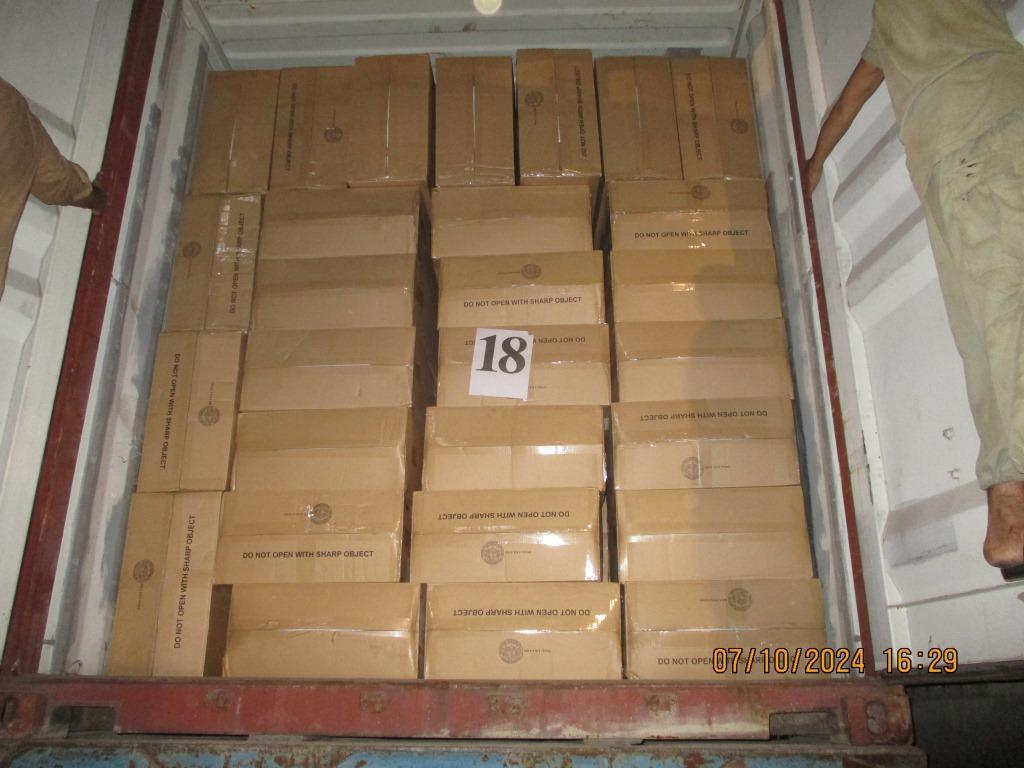carton: (107, 492, 224, 676), (623, 578, 825, 679), (425, 581, 621, 682), (224, 581, 424, 679), (614, 485, 813, 582), (214, 489, 405, 585), (408, 489, 601, 584), (610, 398, 800, 491), (137, 331, 246, 491), (240, 327, 433, 412), (233, 407, 421, 493), (422, 406, 605, 493), (437, 323, 612, 408), (614, 319, 793, 401), (253, 254, 435, 331), (164, 193, 263, 331), (608, 249, 782, 323), (258, 185, 430, 259), (437, 251, 604, 327), (431, 182, 595, 258), (607, 178, 774, 251), (188, 68, 282, 195), (346, 56, 434, 189), (668, 55, 761, 178), (595, 55, 687, 178), (515, 49, 601, 179), (268, 65, 354, 189), (434, 55, 515, 185)
